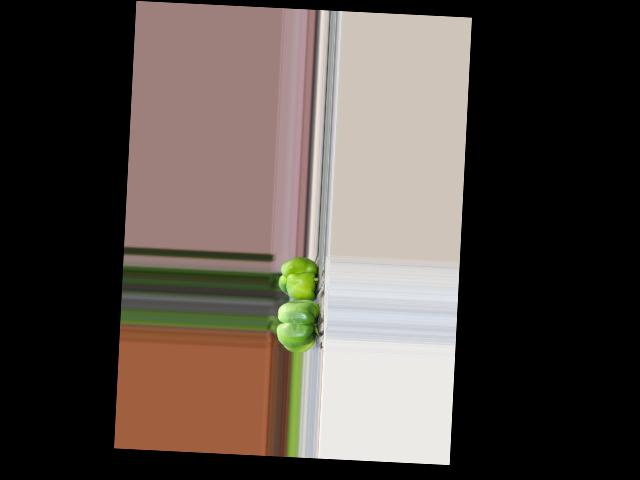bell_pepper: (276, 254, 322, 301)
